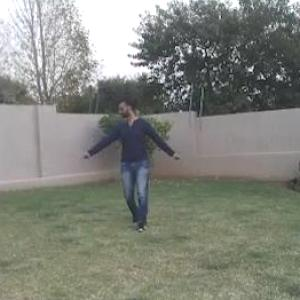land: (68, 78, 184, 238)
